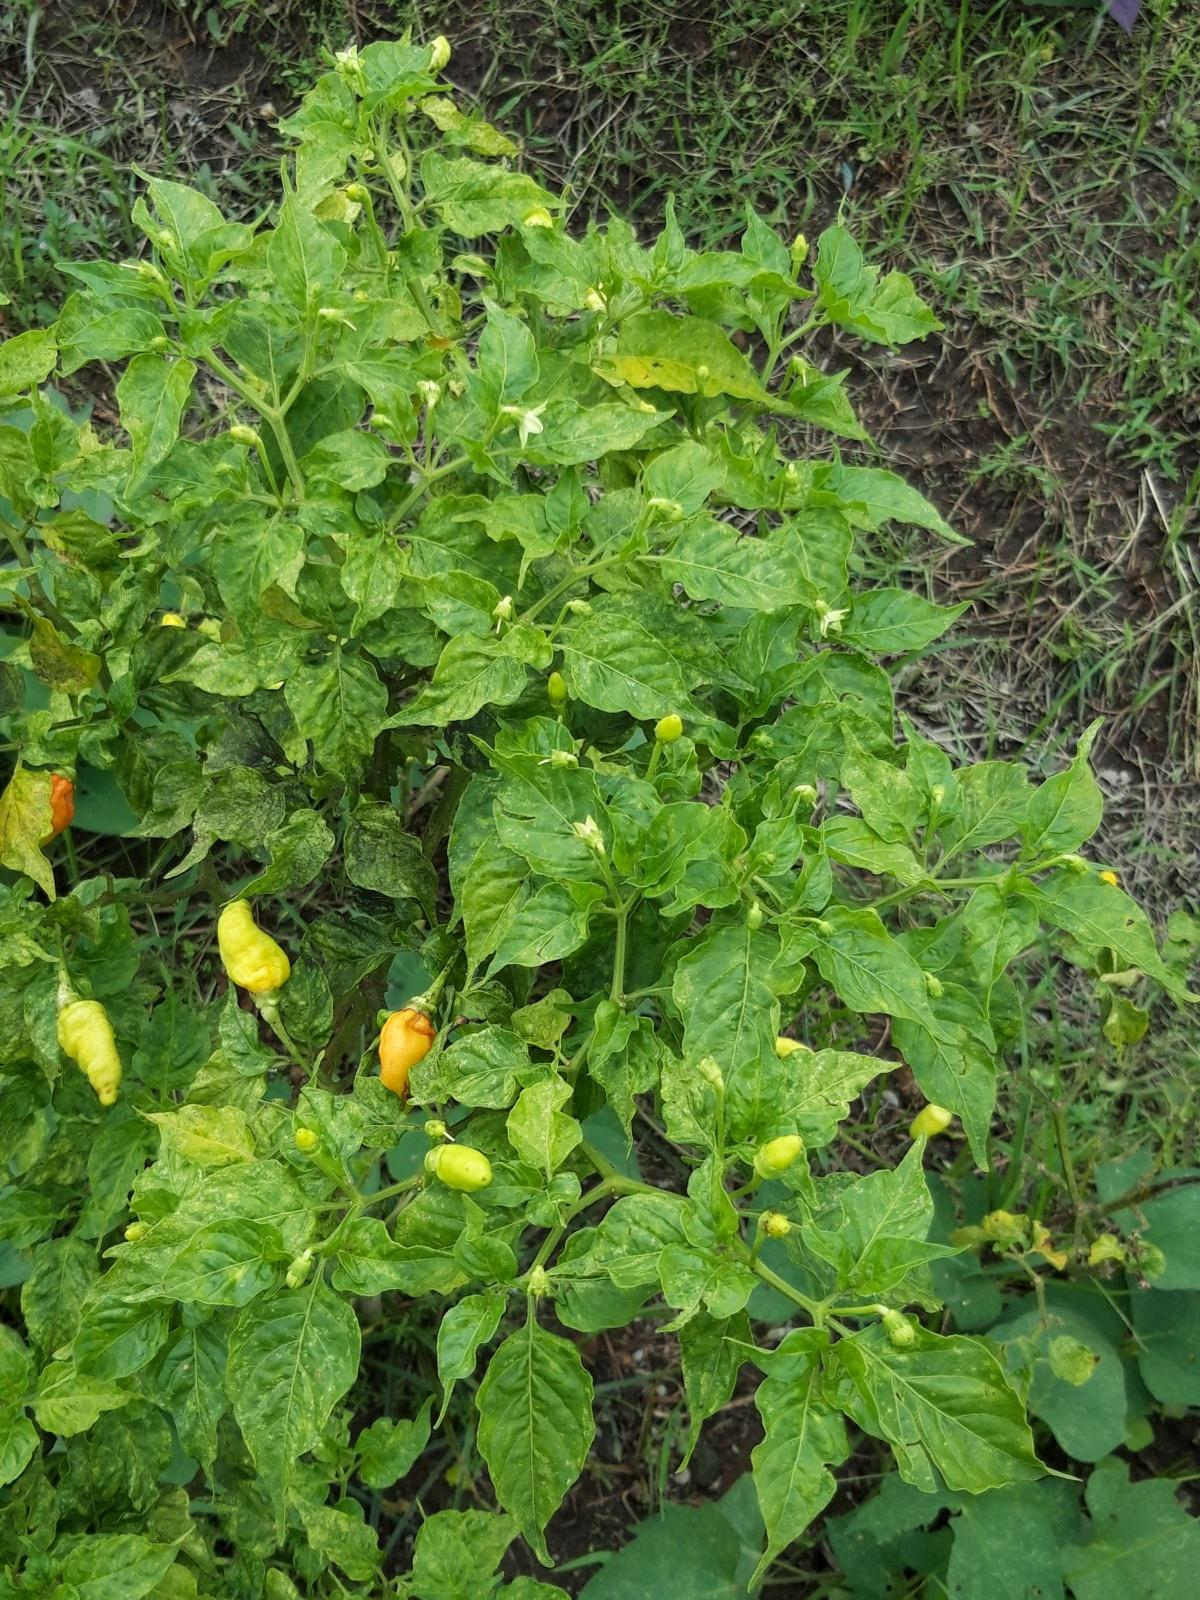cabai_normal: (217, 897, 292, 995), (58, 999, 122, 1107), (431, 1144, 493, 1193), (909, 1105, 955, 1140), (764, 1136, 802, 1169), (655, 716, 683, 740), (550, 671, 568, 706)
lalat_buah: (377, 1008, 436, 1101)
